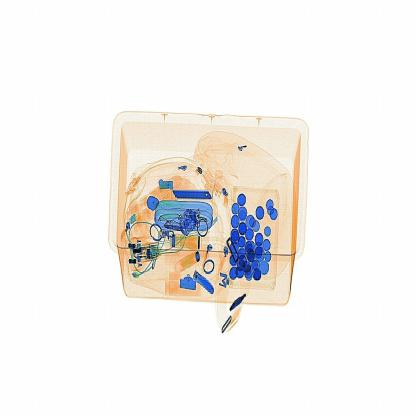pliers: (160, 175, 218, 208)
